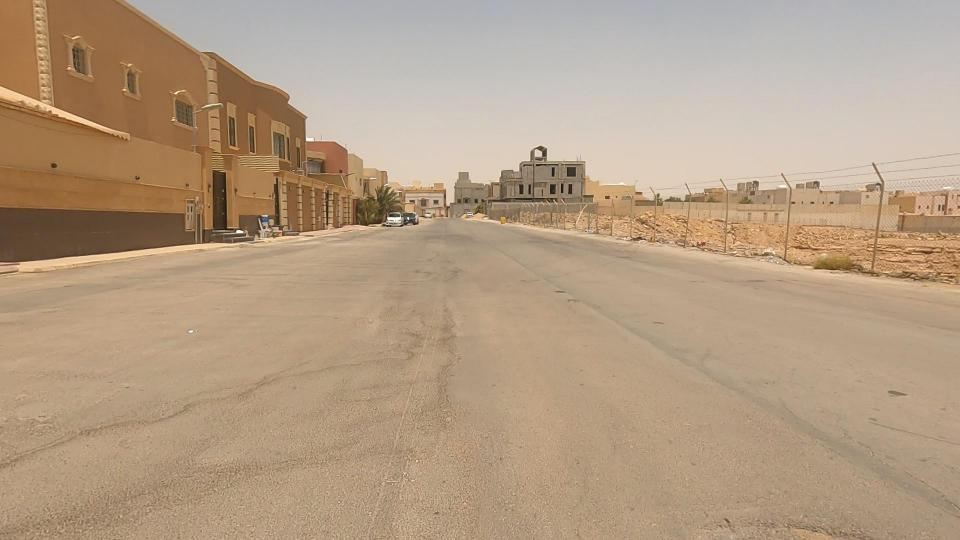GARBAGE: (718, 225, 812, 282), (237, 195, 302, 262)
